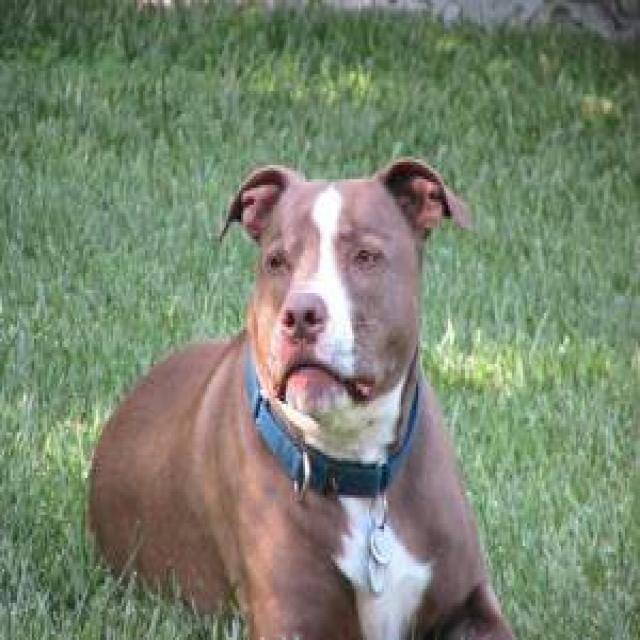dog-american_pit_bull_terrier: (70, 148, 521, 634)
